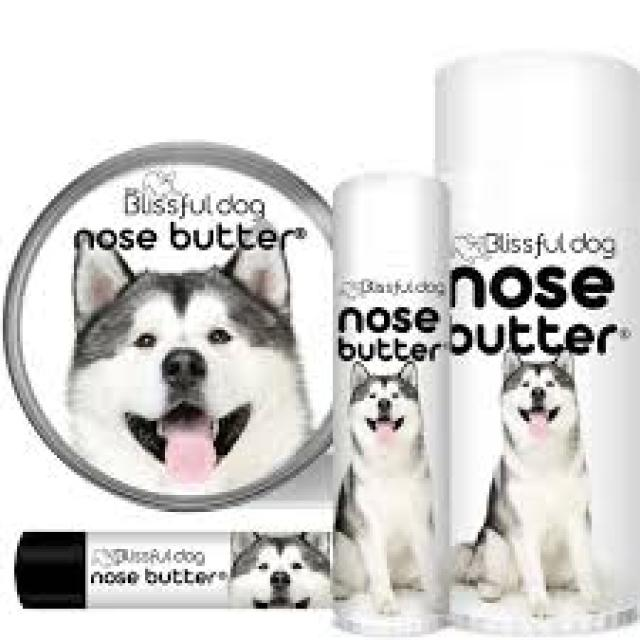ALASKAN_MALAMUTE: (43, 255, 317, 504), (456, 344, 614, 618), (333, 358, 455, 633), (210, 535, 333, 614)
